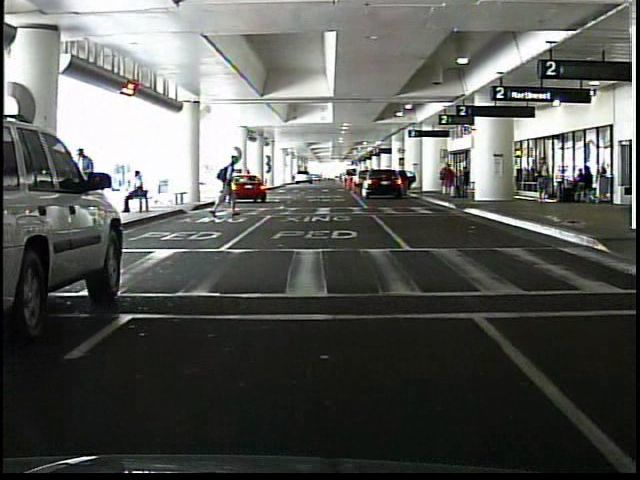person: (208, 156, 244, 219), (78, 147, 107, 216), (125, 167, 150, 215), (537, 154, 552, 201), (439, 161, 457, 199), (461, 164, 462, 198)
